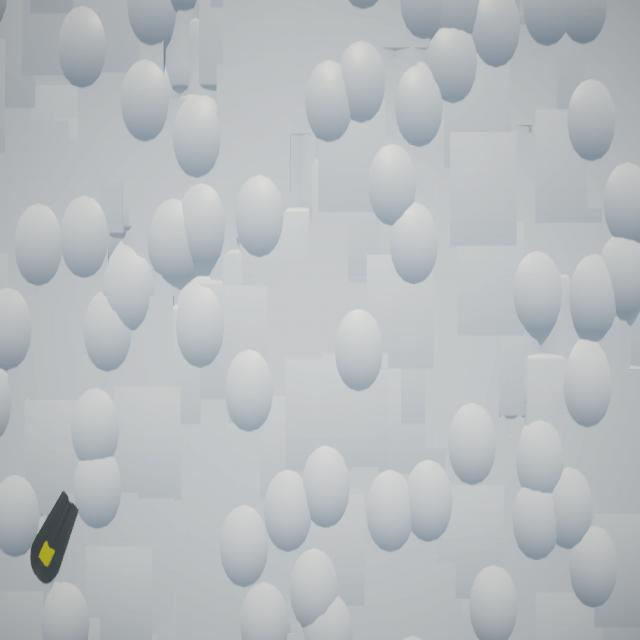handle_folk: (31, 492, 80, 585)
